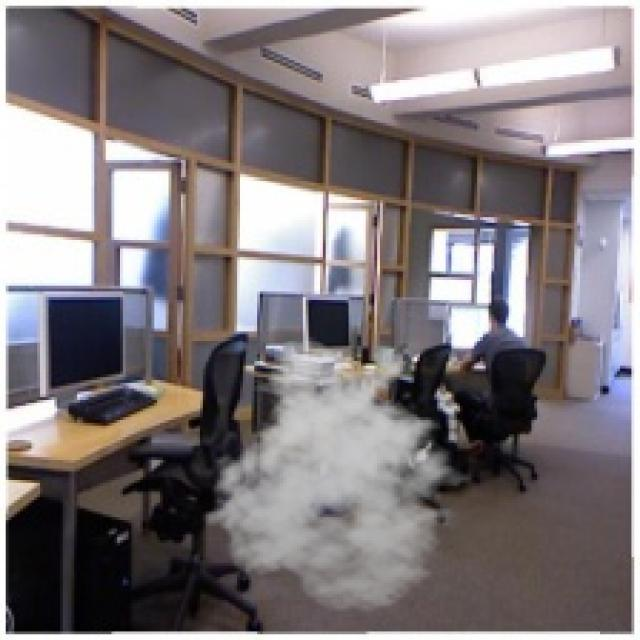smoke: (203, 337, 486, 614)
